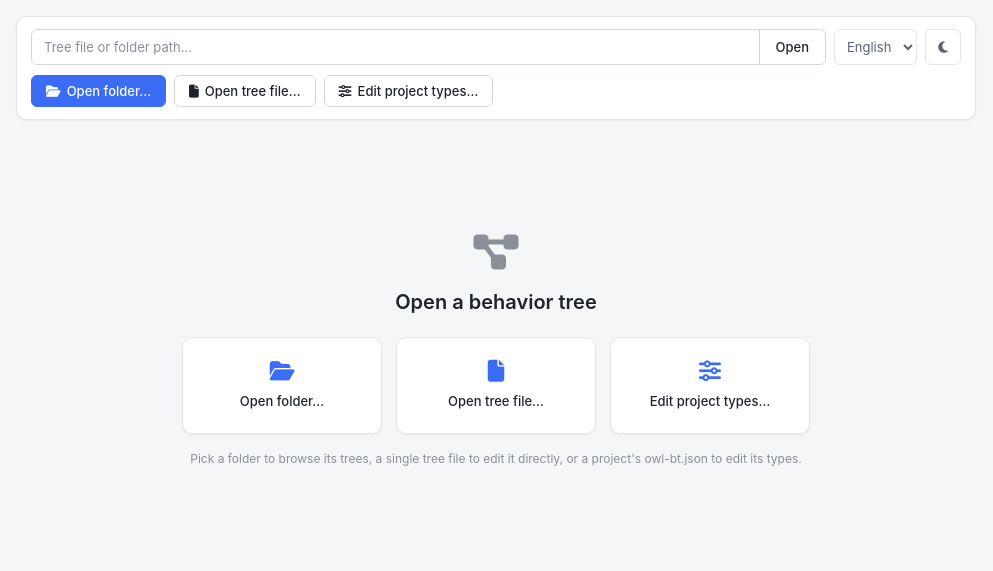
Scenario: Home › loads the workspace for a folder path typed in the box
Type "/work/trees" into the field with placeholder "Tree file or folder path…" at coordinates (395, 47), box [31,29,760,65]
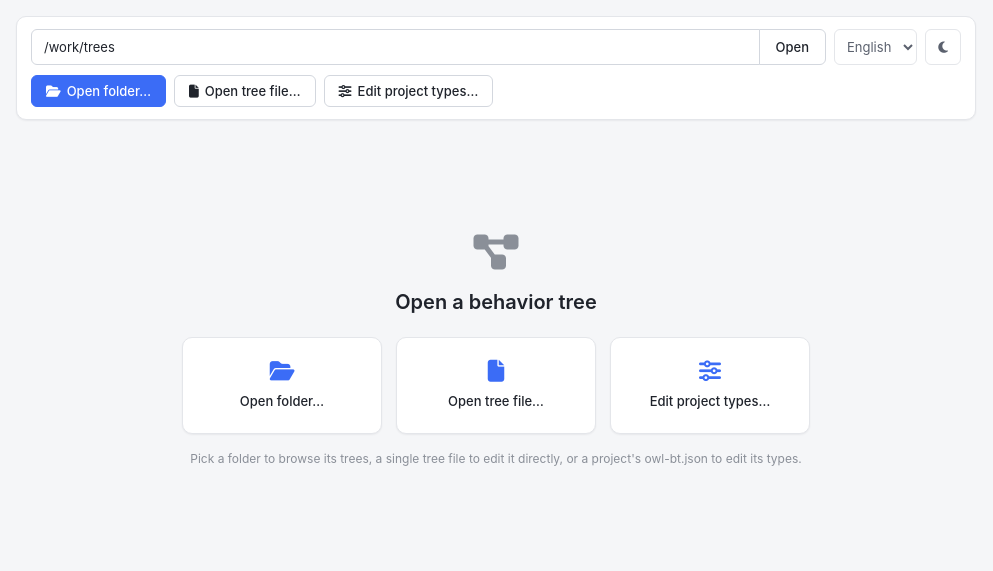
Click the button "Open" at coordinates (792, 47), box [758,29,826,65]
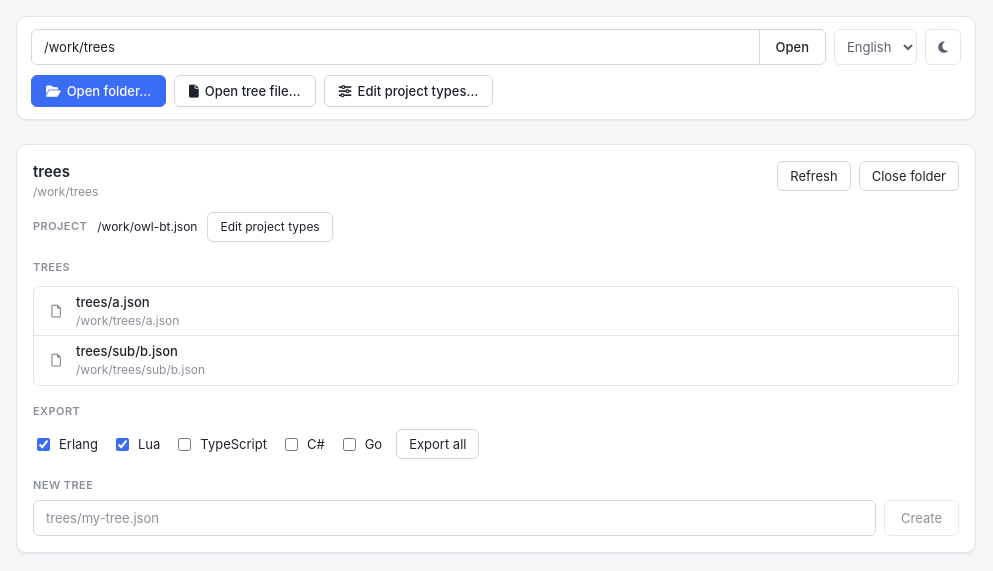
Check: the text "trees/a.json" is shown, box [76,294,150,310]
Check: the text "/work/trees" is shown, box [33,183,98,200]
